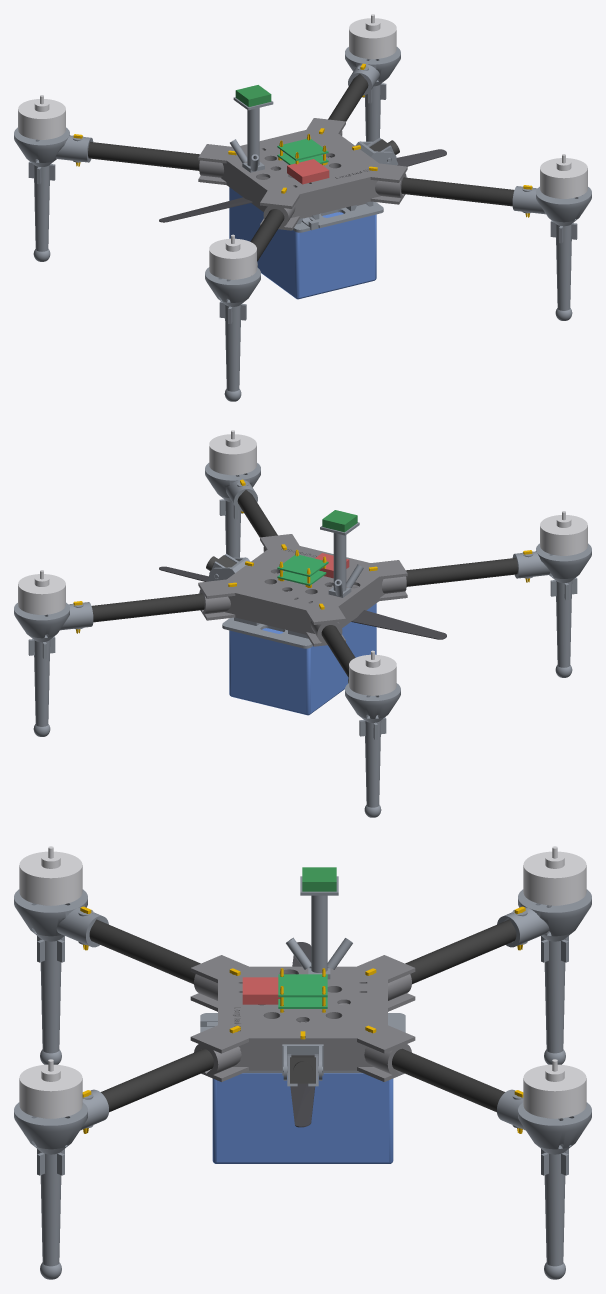
The model's file is drone.glb.
3 renders of one model, top to bottom at view 1: azimuth 30°, elevation 25°; view 2: azimuth 150°, elevation 25°; view 3: azimuth 270°, elevation 25°, orthographic. The views are drawn at different scales.
Parts seen in each view (by area): view 1: hub, battery, motors, legs, motor_mounts, tubes, gps_mast, battery_tray, prop, stack, vtx, gps; view 2: hub, battery, motors, legs, motor_mounts, tubes, prop, gps_mast, battery_tray, stack, gps; view 3: hub, battery, motors, legs, motor_mounts, tubes, gps_mast, stack, prop, vtx, battery_tray, gps (+3 smaller).
Boxes of the visible parts, x1,y1,x2,y2 form: hub: (198, 118, 407, 230); battery: (229, 187, 376, 299); motors: (18, 14, 587, 279); legs: (28, 80, 577, 401); motor_mounts: (14, 47, 591, 302); tubes: (88, 60, 514, 261); gps_mast: (230, 97, 273, 172); battery_tray: (293, 201, 383, 232); prop: (159, 149, 446, 222); stack: (277, 139, 328, 164); vtx: (287, 159, 329, 184); gps: (235, 85, 271, 106); hub: (198, 534, 407, 646); battery: (229, 603, 376, 715); motors: (18, 430, 587, 695); legs: (28, 496, 577, 817); motor_mounts: (14, 463, 591, 718); tubes: (91, 476, 517, 677); prop: (159, 566, 446, 639); gps_mast: (320, 522, 363, 597); battery_tray: (222, 617, 312, 648); stack: (277, 555, 328, 585); gps: (322, 510, 357, 532); hub: (190, 955, 415, 1081); battery: (212, 1073, 393, 1163); motors: (19, 846, 586, 1118); legs: (33, 932, 572, 1279); motor_mounts: (14, 889, 591, 1149); tubes: (89, 919, 516, 1112); gps_mast: (286, 876, 352, 979); stack: (278, 974, 327, 1008); prop: (290, 942, 315, 1127); vtx: (242, 977, 280, 1004); battery_tray: (200, 1013, 405, 1073); gps: (302, 867, 336, 891).
Bounding box in the file's own units: 0.4217 × 0.2155 × 0.4217.
